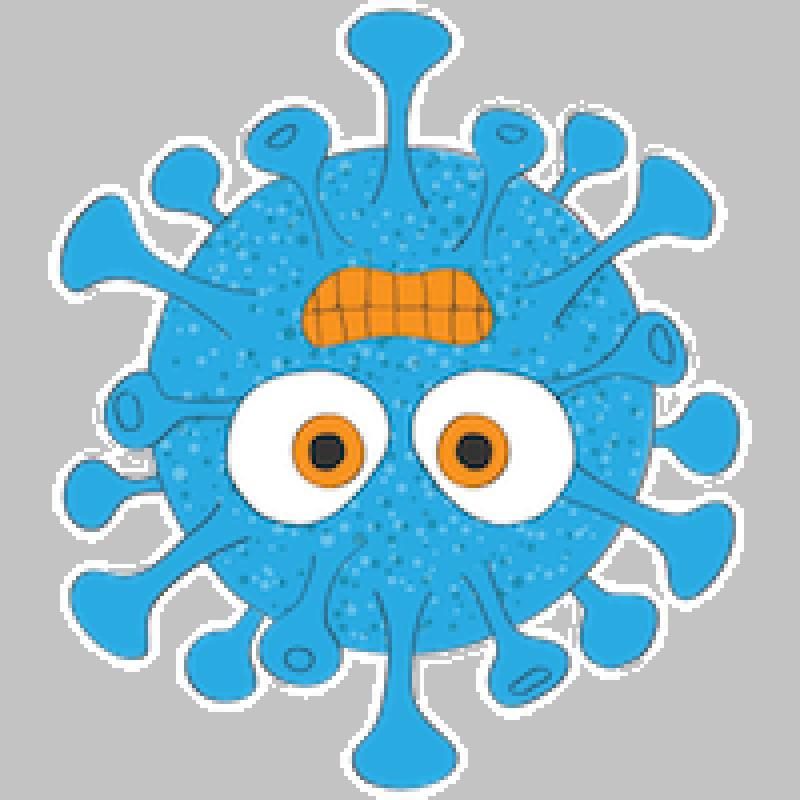corona1: (0, 0, 797, 799)
